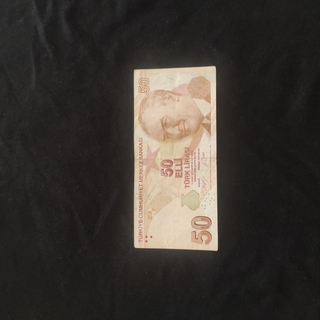50TLFront: (133, 64, 219, 251)
